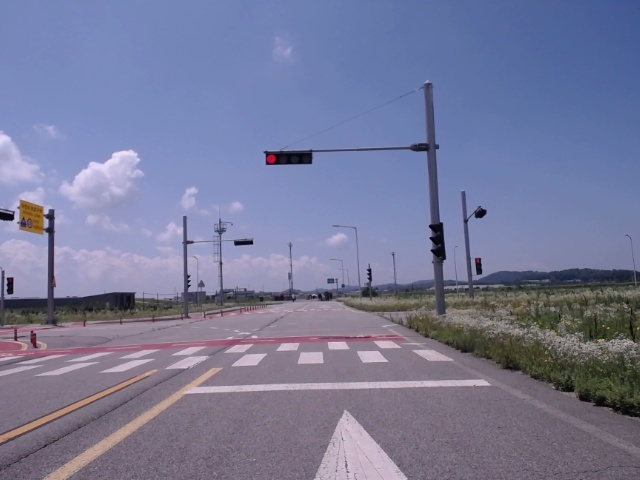red_4: (266, 152, 312, 165)
